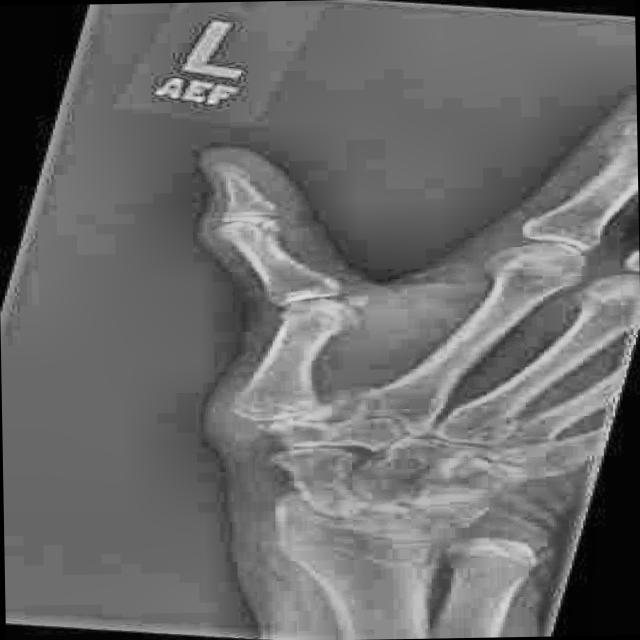fingers positive: (275, 292, 377, 343), (201, 208, 290, 251)
